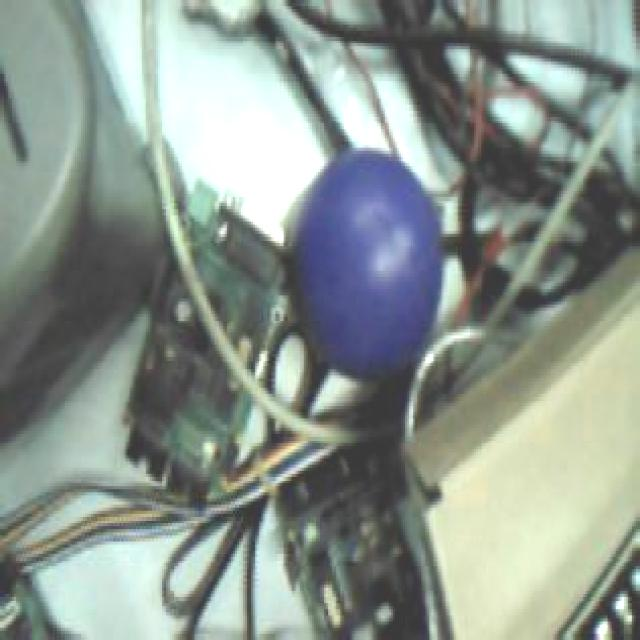BallPurple: (293, 146, 443, 378)
